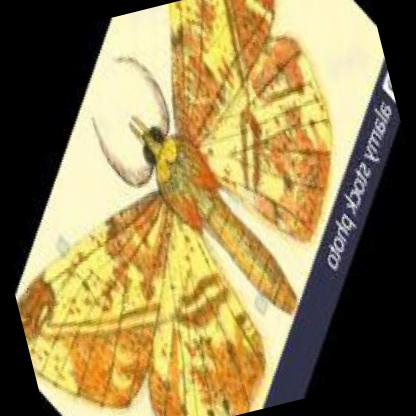Leaf Webber: (21, 0, 332, 416)
